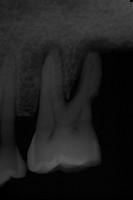Dental Caries: (67, 38, 120, 100), (31, 39, 64, 70)
